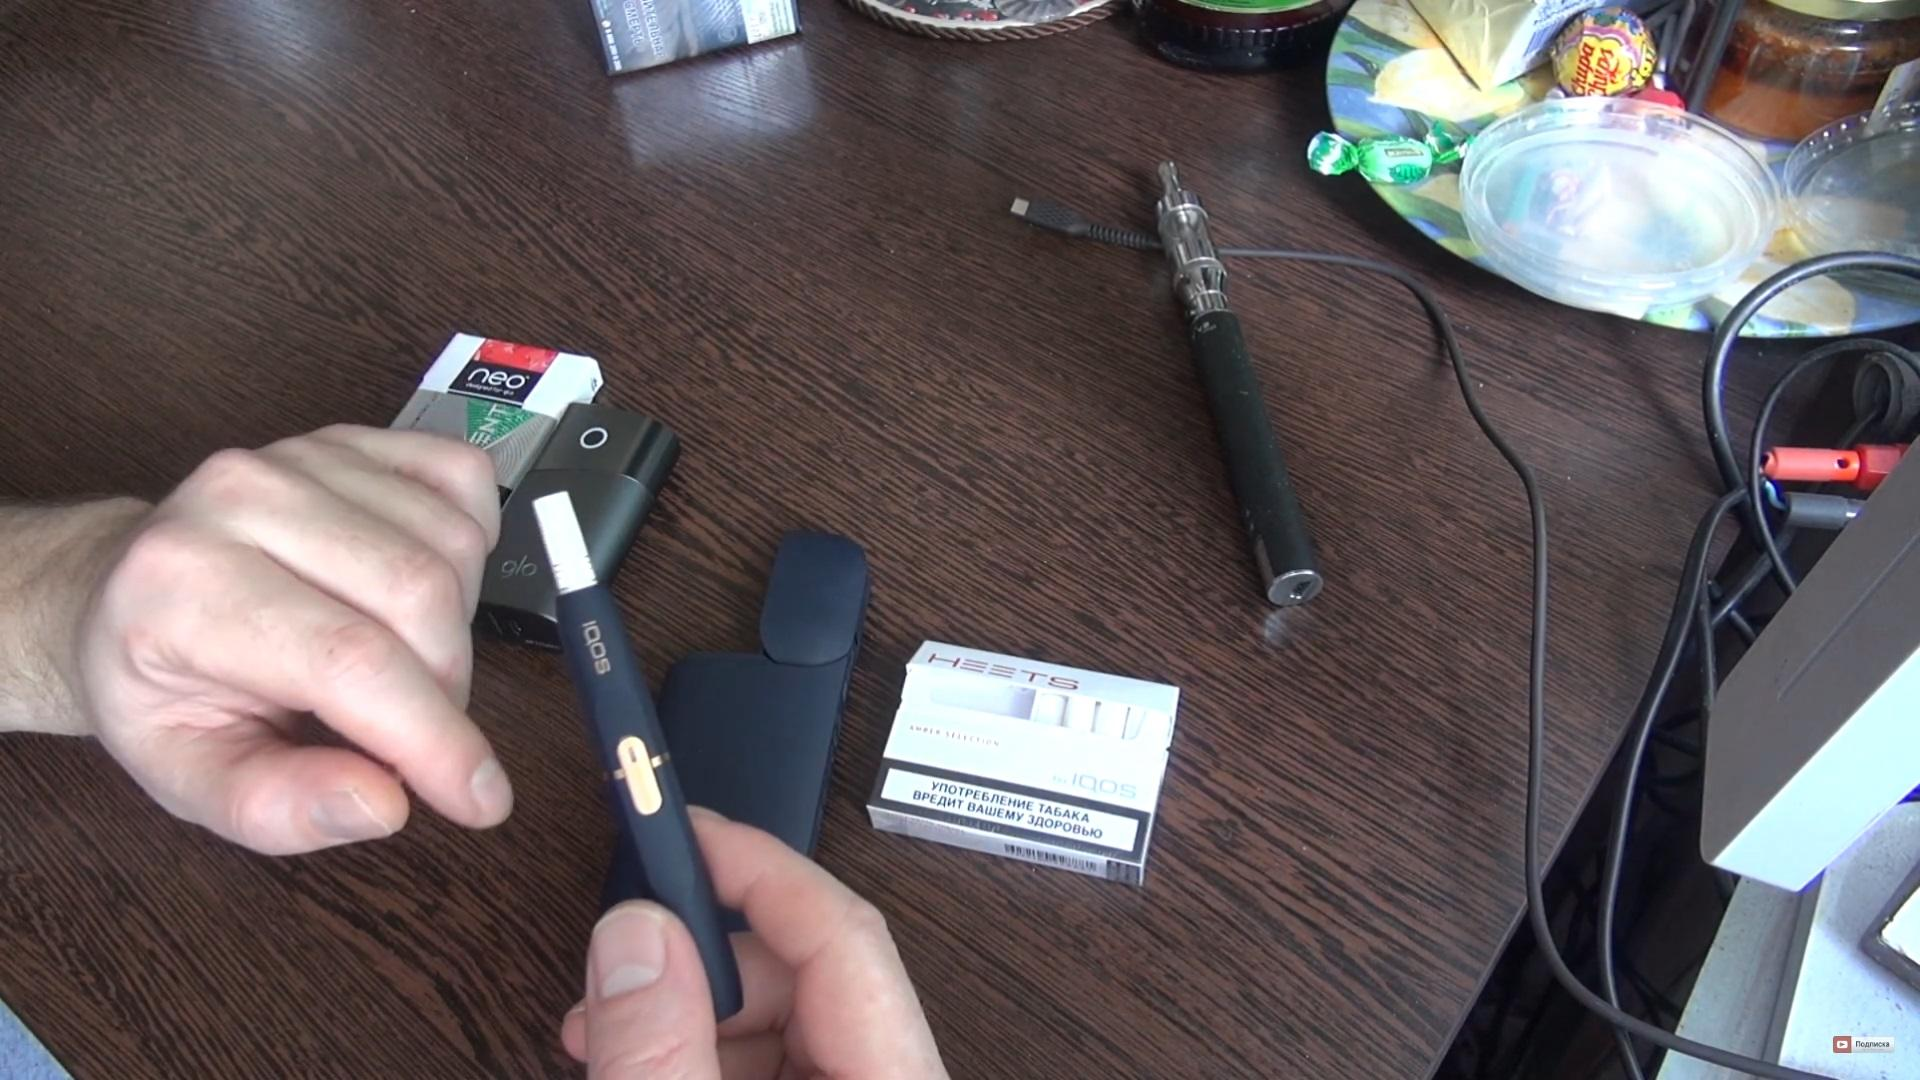Vape: (1156, 161, 1323, 607)
iqos: (531, 491, 741, 1021)
